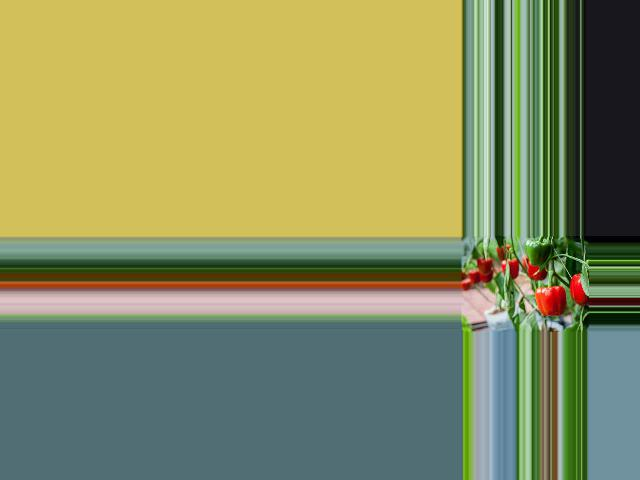bell_pepper: (499, 253, 518, 284)
